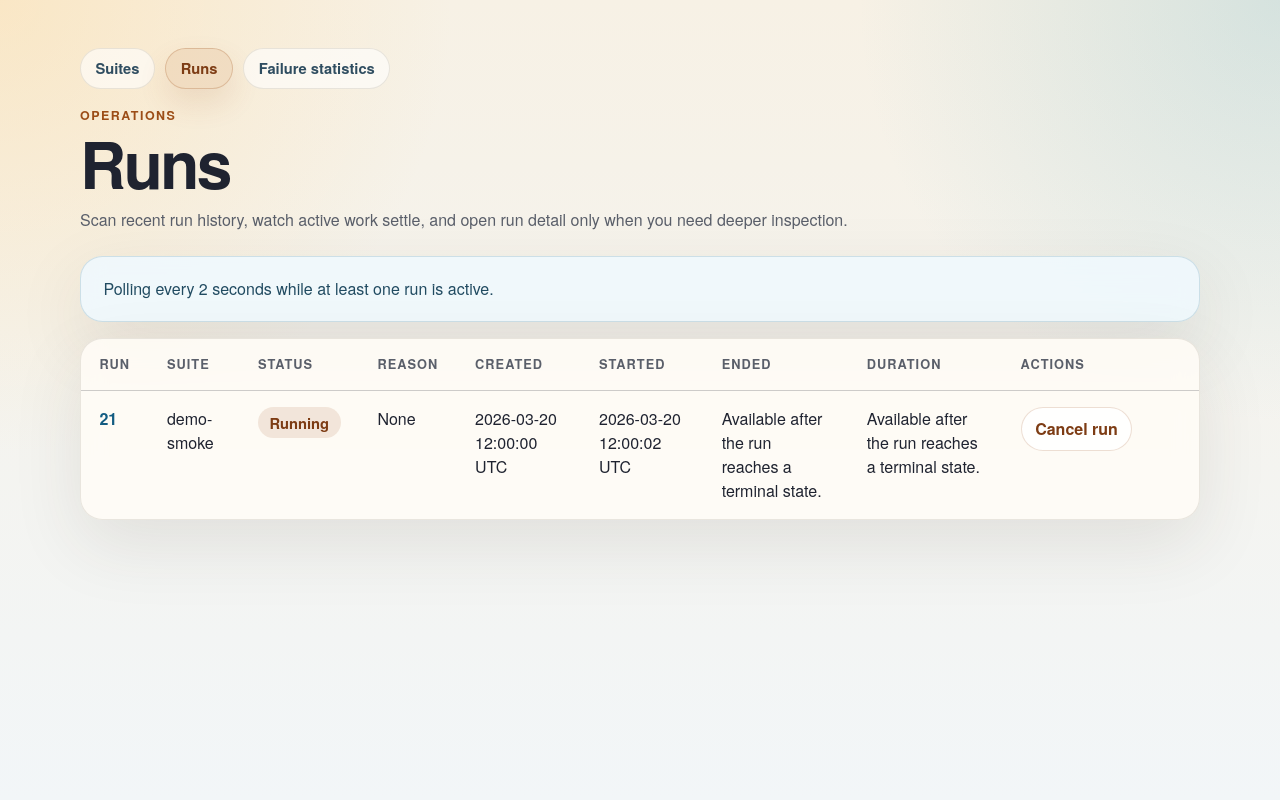
it: shows local cancel errors on /runs without clearing the ready state
Click the button "Cancel run": x=1077, y=429 [1021,407,1132,451]
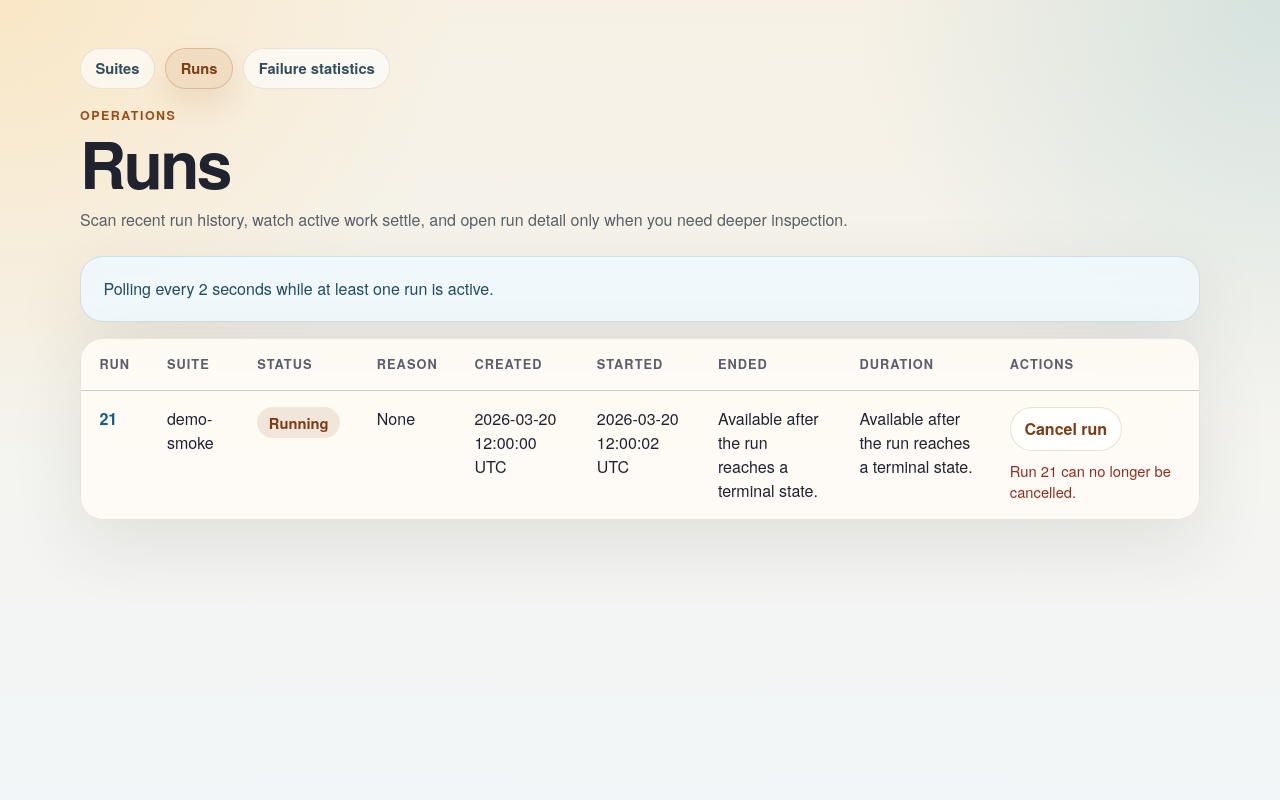
Expected: the text "demo-smoke" is shown, [148,391,239,519]
Expected: the text "Run 21 can no longer be cancelled." is shown, [1010,460,1181,502]
